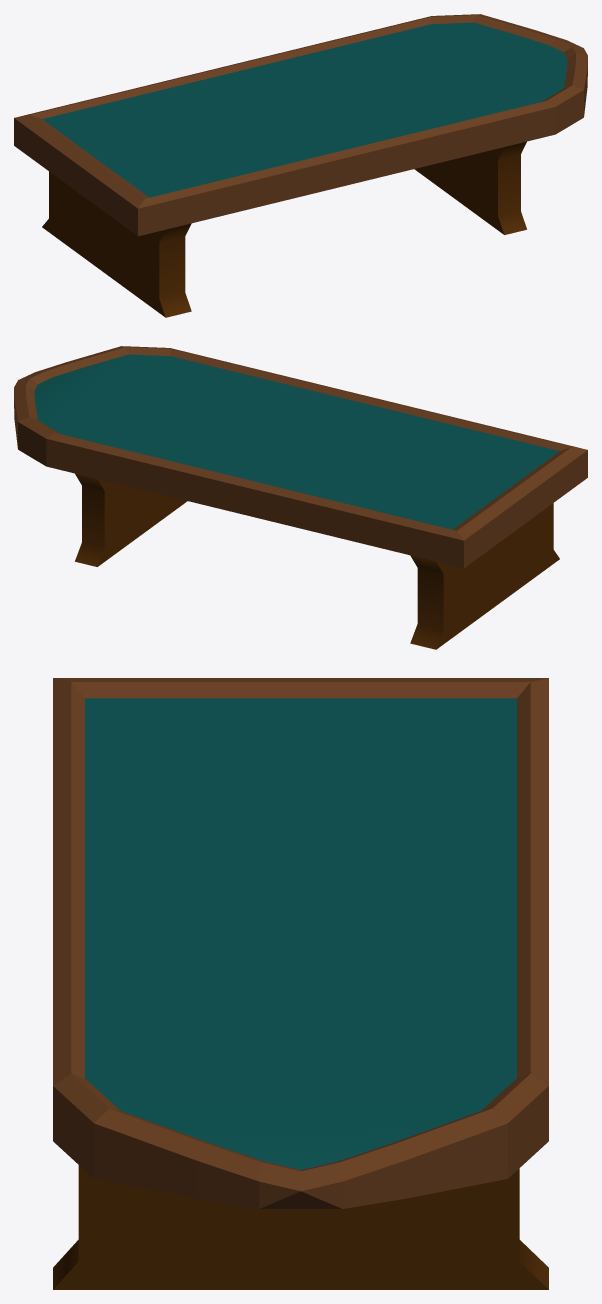
The model's file is Base_Mesh_RouletteTable.fbx.
The picture shows the model from 3 angles, top to bottom: view 1: azimuth 30°, elevation 25°; view 2: azimuth 150°, elevation 25°; view 3: azimuth 270°, elevation 25°; orthographic projection. The views are drawn at different scales.
Visible parts, largest first — view 1: BaseMesh_RouletteTable; view 2: BaseMesh_RouletteTable; view 3: BaseMesh_RouletteTable.
Part boxes in pixels (<box>): BaseMesh_RouletteTable: <box>14,14,587,317</box>; BaseMesh_RouletteTable: <box>14,346,587,649</box>; BaseMesh_RouletteTable: <box>53,678,548,1289</box>.
Bounding box in the file's own units: 544 × 122 × 230.
